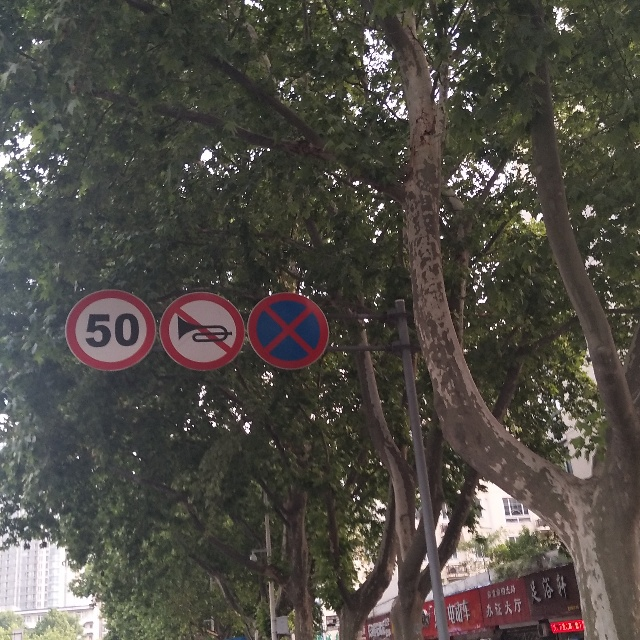nohonk: (164, 296, 244, 366)
stop: (252, 292, 327, 363)
